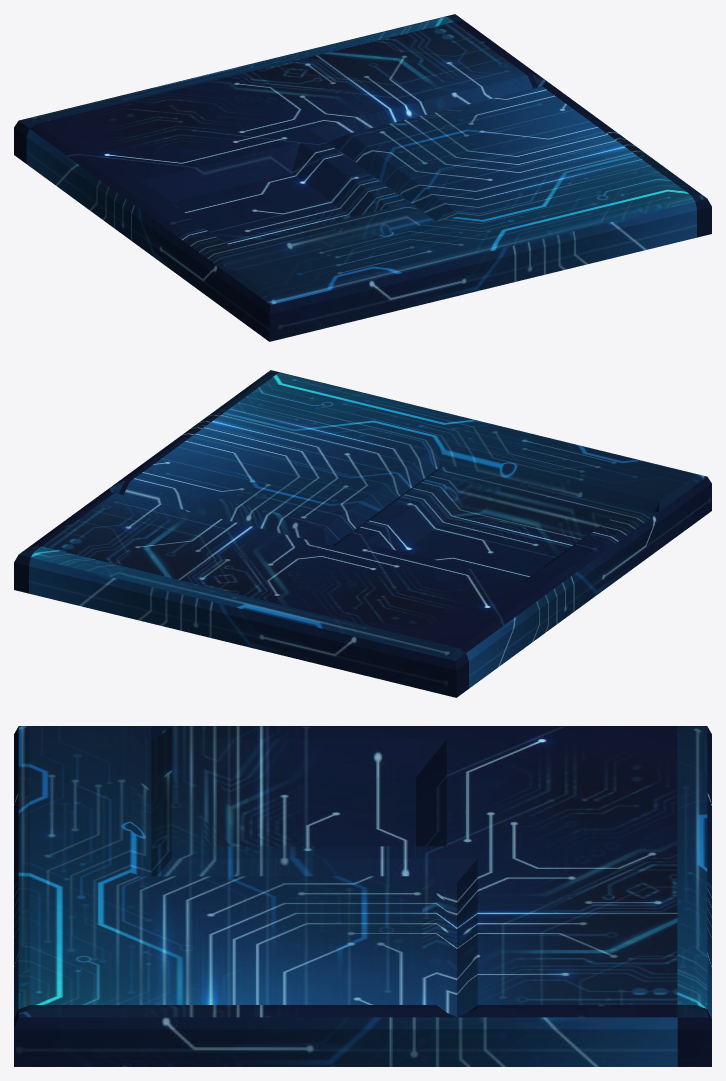
File: Floor05.fbx
3 views of the same model, one above another, from view 1: azimuth 30°, elevation 25°; view 2: azimuth 150°, elevation 25°; view 3: azimuth 270°, elevation 25° (orthographic). The views are drawn at different scales.
Parts seen in each view (by area): view 1: Cube.017; view 2: Cube.017; view 3: Cube.017.
Boxes of the visible parts, bbox=[...] form: Cube.017: bbox=[14, 14, 711, 341]; Cube.017: bbox=[14, 370, 711, 697]; Cube.017: bbox=[14, 726, 711, 1066].
Size of the model in its own units: 200 by 200 by 16.4.
